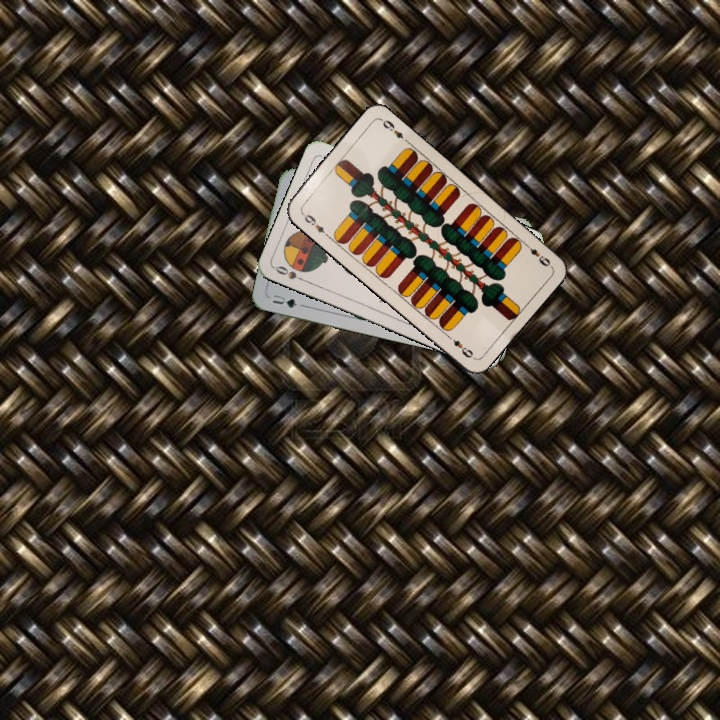E9: (298, 208, 331, 239), (520, 238, 553, 269)
GU: (269, 290, 300, 310)
SO: (271, 262, 310, 285)
